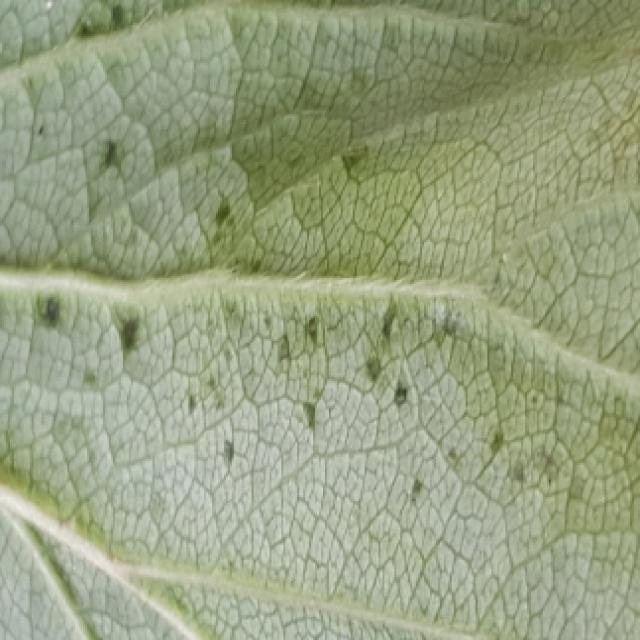Angular Leafspot: (7, 0, 640, 540)
